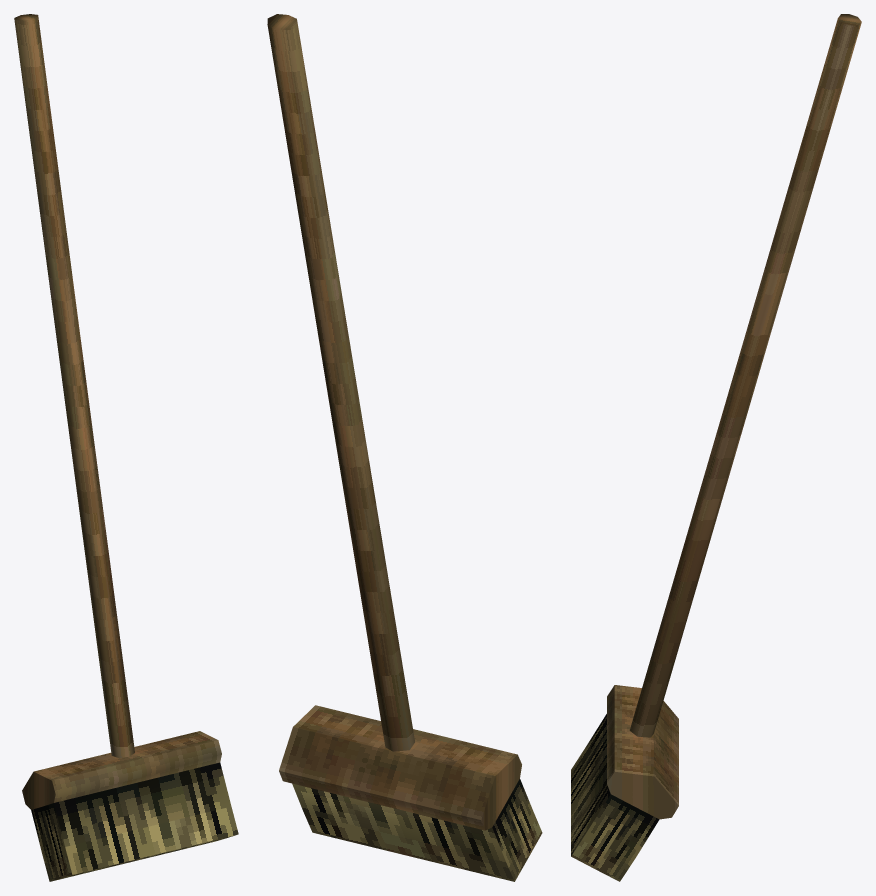
Rendered from Broom.glb.
3 renders of one model, left to right at view 1: azimuth 30°, elevation 25°; view 2: azimuth 150°, elevation 25°; view 3: azimuth 270°, elevation 25°, orthographic. The views are drawn at different scales.
Visible parts, largest first — view 1: BROOM; view 2: BROOM; view 3: BROOM.
Boxes of the visible parts, box(x1,y1,x2,y2) form: BROOM: box(14, 14, 238, 881); BROOM: box(267, 14, 542, 881); BROOM: box(571, 14, 861, 881).
Bounding box in the file's own units: 0.316 × 1.39 × 0.447.
Materials: 1 (1 with a texture image).
